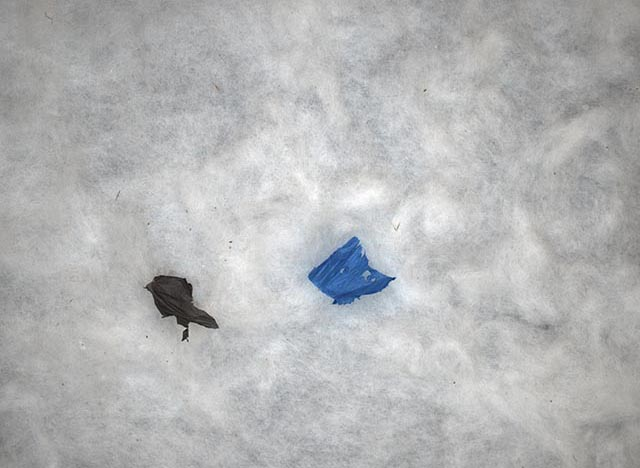plastic film: (308, 235, 396, 304), (144, 274, 221, 342)
